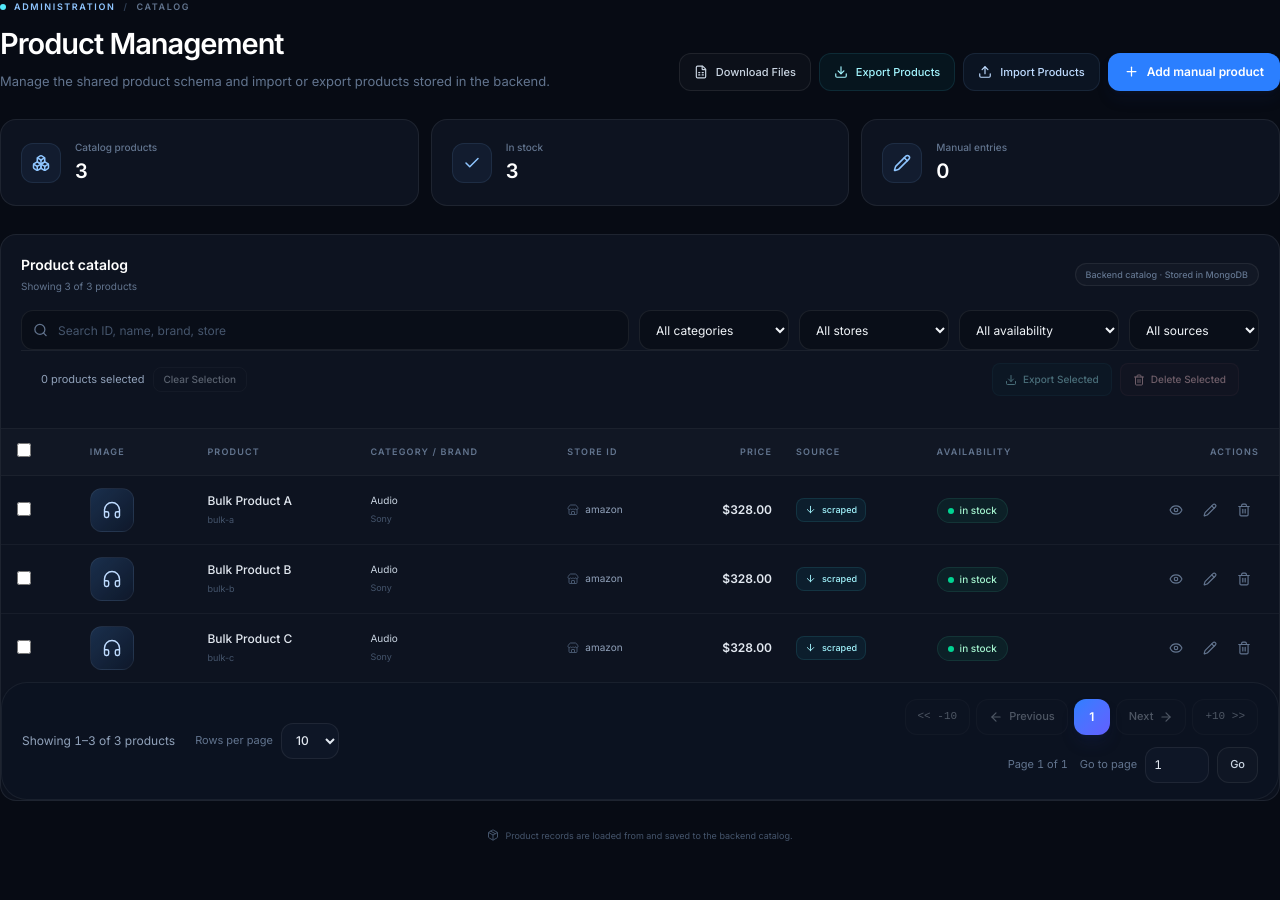
Test: admin and shared user pages › requires confirmation before deleting selected products
Step 1. Click the checkbox named "Select bulk-a" → click(24, 508), box top-left (17, 502), bottom-right (31, 516)
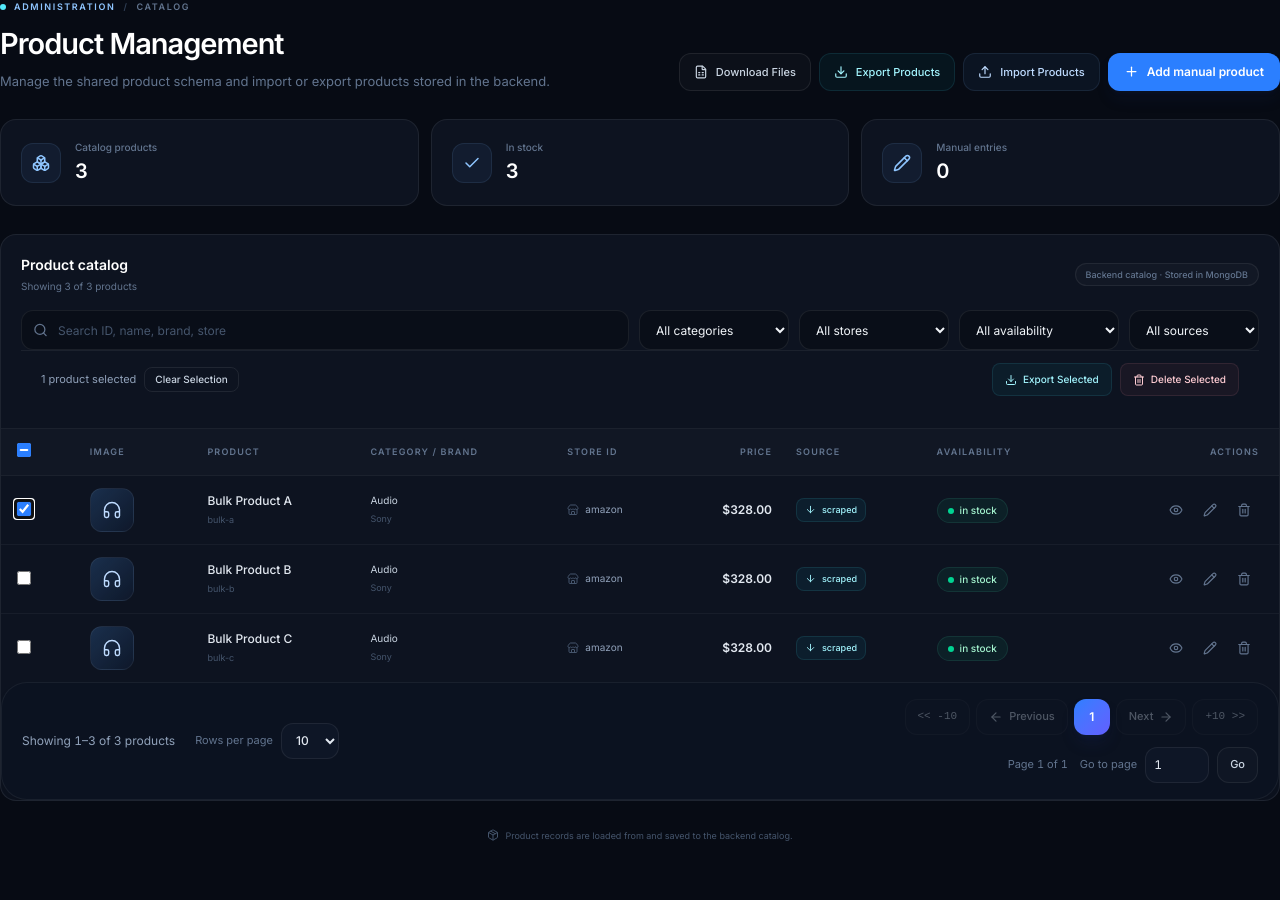
Step 2. Click the button "Delete Selected" → click(1179, 380), box top-left (1120, 363), bottom-right (1239, 396)
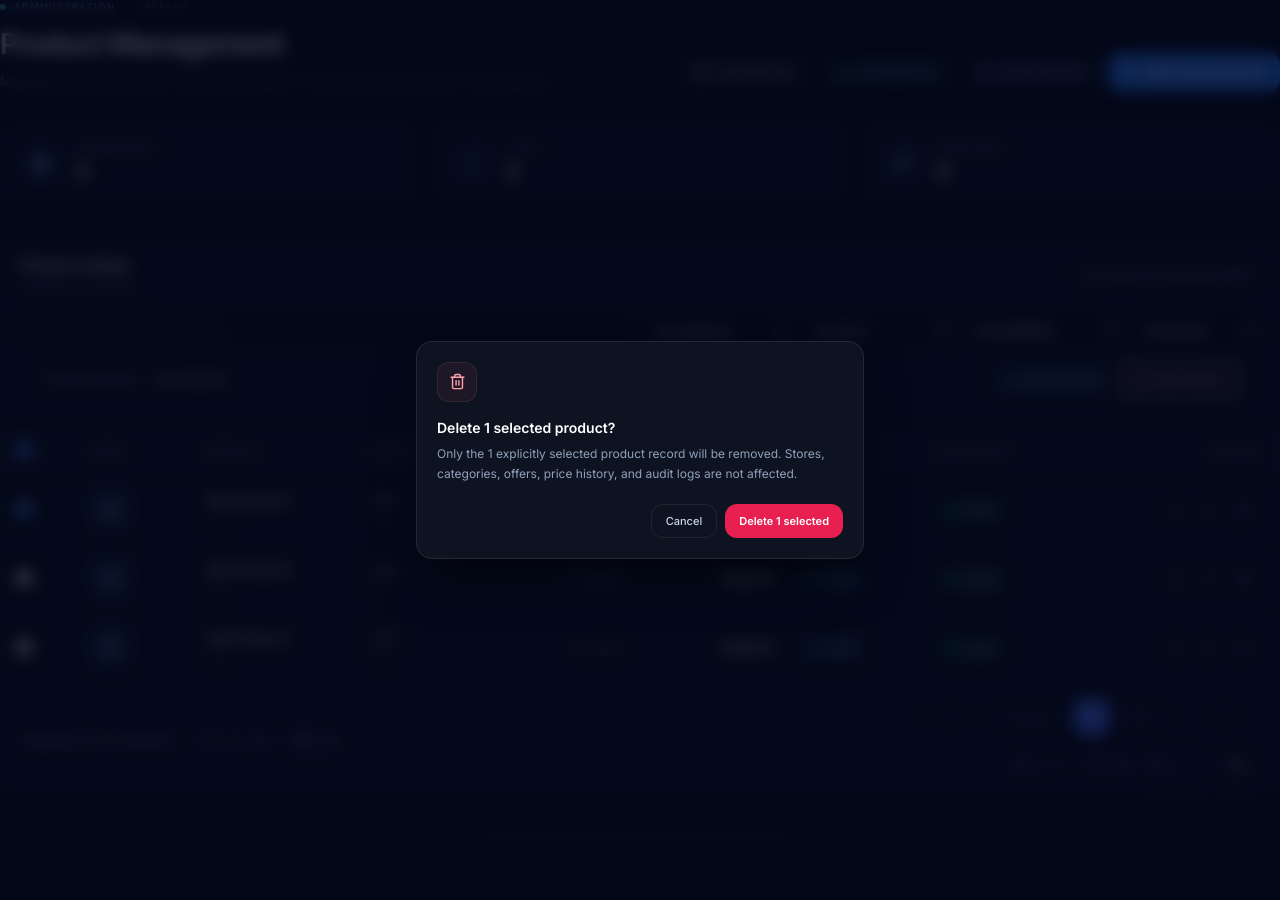
Expected: the dialog shows "Delete 1 selected product?", top-left (416, 341), bottom-right (864, 559)
Step 3. Click the button "Cancel" → click(684, 521), box top-left (651, 504), bottom-right (717, 538)
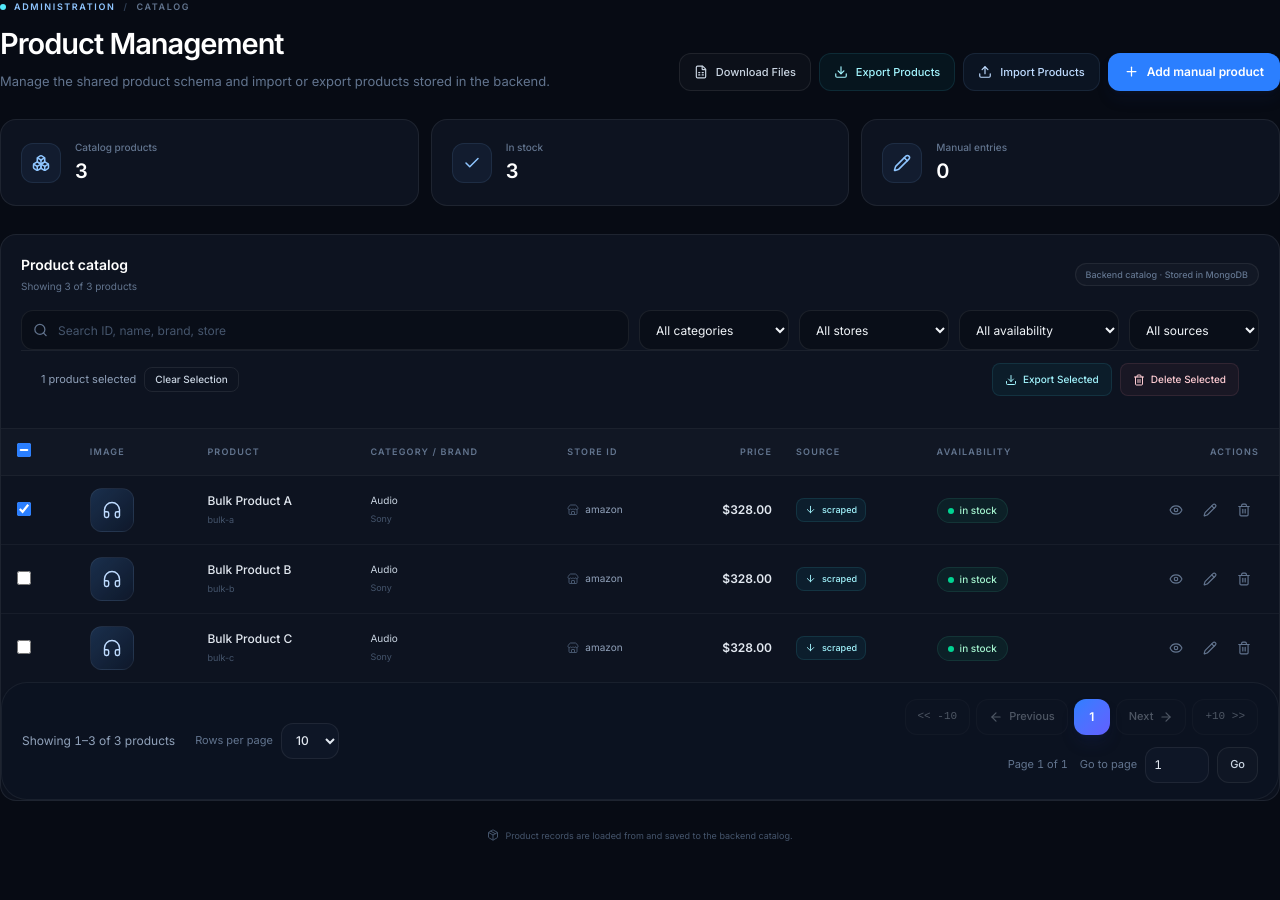
Expected: the dialog is gone
